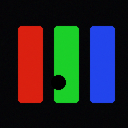2 circle: (51, 75, 65, 89)
